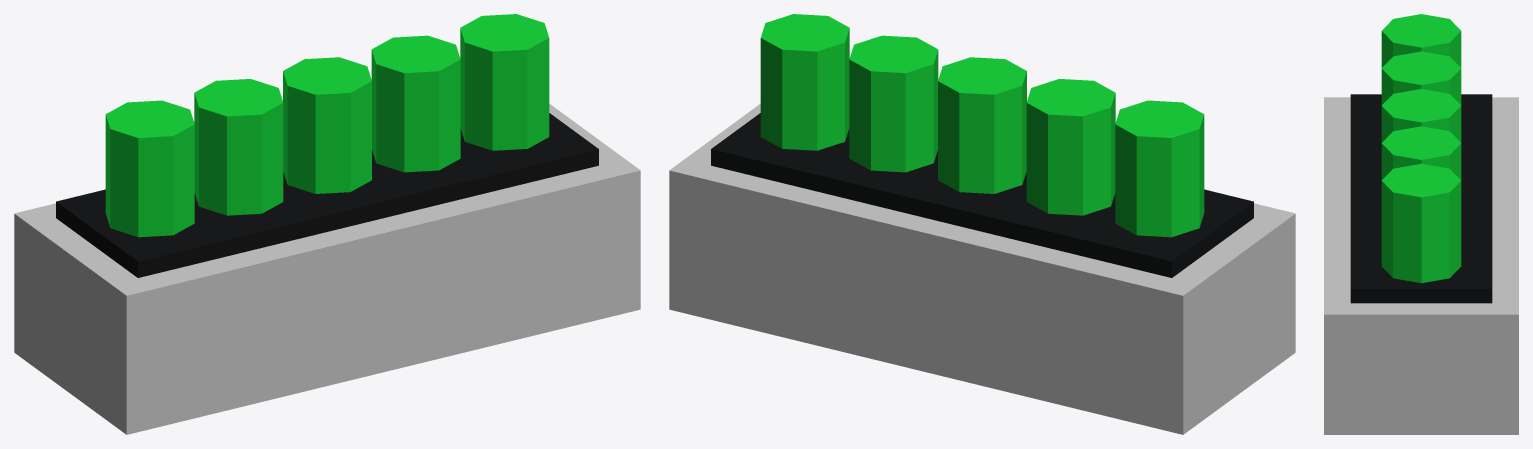
Rendered from planter_box.obj.
The picture shows the model from 3 angles, left to right: view 1: azimuth 30°, elevation 25°; view 2: azimuth 150°, elevation 25°; view 3: azimuth 270°, elevation 25°; orthographic projection. The views are drawn at different scales.
Visible parts, largest first — view 1: planter_box; view 2: planter_box; view 3: planter_box.
Boxes of the visible parts, box(x1,y1,x2,y2) form: planter_box: box(14, 14, 640, 434); planter_box: box(669, 14, 1295, 434); planter_box: box(1324, 14, 1518, 434).
Bounding box in the file's own units: 5.8 × 2.75 × 2.2.
